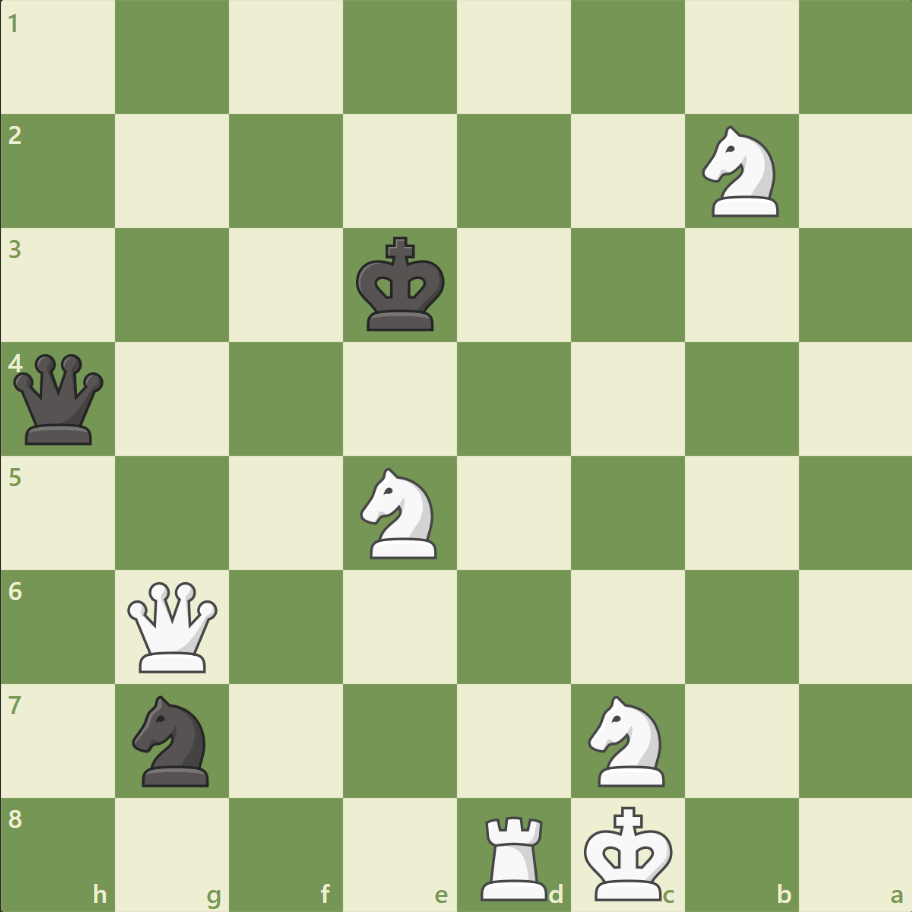K: (579, 798, 679, 906)
N: (351, 461, 449, 564), (579, 688, 676, 791), (692, 121, 789, 223)
Q: (124, 576, 223, 676)
R: (473, 806, 556, 904)
k: (351, 231, 451, 339)
n: (124, 688, 222, 791)
q: (10, 349, 109, 449)
